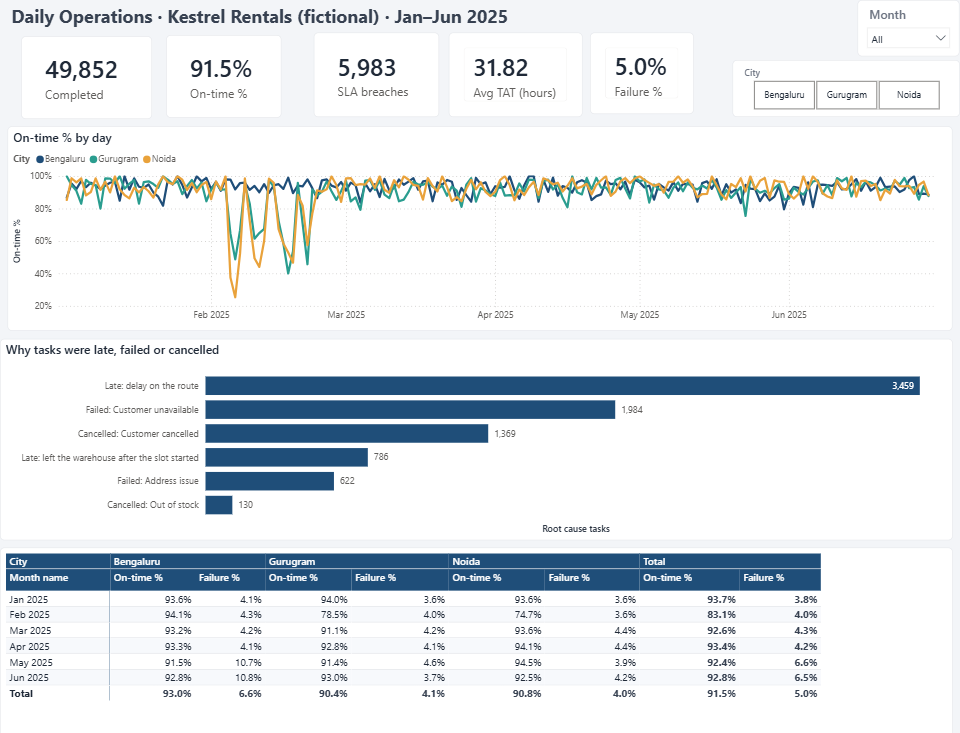

The dashboard page shown, as its layout file describes it:
{"tool":"powerbi","page":{"name":"Daily Operations","canvas":[1280,1110],"ordinal":1},"visuals":[{"type":"textbox","box":[10,0,678.9,45.6],"z":0},{"type":"slicer","fields":{"Values":["Months.Month name"]},"box":[1143.8,0,136.2,75],"z":1},{"type":"slicer","fields":{"Values":["Cities.City"]},"box":[977.1,80,302.9,75.7],"z":2},{"type":"cardVisual","fields":{"Data":["_Measures.Completed"]},"box":[28.6,48.6,174.3,110],"z":3},{"type":"cardVisual","fields":{"Data":["_Measures.On-time %"]},"box":[221.2,46.2,153.8,110],"z":4},{"type":"cardVisual","fields":{"Data":["_Measures.Failure %"]},"box":[787.1,42.9,138.6,108.6],"z":5},{"type":"cardVisual","fields":{"Data":["_Measures.SLA breaches"]},"box":[417.5,43.8,167.5,112.5],"z":6},{"type":"cardVisual","fields":{"Data":["_Measures.Avg TAT (hours)"]},"box":[598.6,42.9,178.6,112.9],"z":7},{"type":"lineChart","title":"On-time % by day","fields":{"Category":["Calendar.Date"],"Y":["_Measures.On-time %"],"Series":["Cities.City"]},"box":[10,168.8,1260,272.5],"z":8},{"type":"clusteredBarChart","title":"Why tasks were late, failed or cancelled","fields":{"Category":["root_cause_summary.root_cause"],"Y":["_Measures.Root cause tasks"]},"box":[0,451.4,1270,268.6],"z":9},{"type":"pivotTable","fields":{"Rows":["Months.Month name"],"Columns":["Cities.City"],"Values":["_Measures.On-time %","_Measures.Failure %"]},"box":[0,730,1270,268.6],"z":10}]}

Visuals, with their boxes on the page's 1280x1110 design canvas (x1, y1, x2, y2). These are canvas units, not pixel positions in the 960x733 screenshot, which may show the page scaled, cropped or inside an application window:
textbox: bbox(10, 0, 689, 46)
slicer - Months.Month name: bbox(1144, 0, 1280, 75)
slicer - Cities.City: bbox(977, 80, 1280, 156)
cardVisual - _Measures.Completed: bbox(29, 49, 203, 159)
cardVisual - _Measures.On-time %: bbox(221, 46, 375, 156)
cardVisual - _Measures.Failure %: bbox(787, 43, 926, 152)
cardVisual - _Measures.SLA breaches: bbox(418, 44, 585, 156)
cardVisual - _Measures.Avg TAT (hours): bbox(599, 43, 777, 156)
"On-time % by day" lineChart: bbox(10, 169, 1270, 441)
"Why tasks were late, failed or cancelled" clusteredBarChart: bbox(0, 451, 1270, 720)
pivotTable - Months.Month name x Cities.City: bbox(0, 730, 1270, 999)
